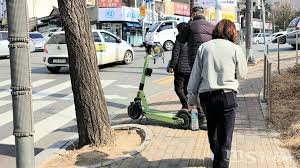kick_board: (129, 43, 191, 128)
kick_body: (144, 108, 178, 124)
kick_handler: (130, 42, 161, 51)
kick_neck: (139, 53, 154, 101)
kick_wheel: (127, 102, 142, 120), (177, 109, 190, 129)
